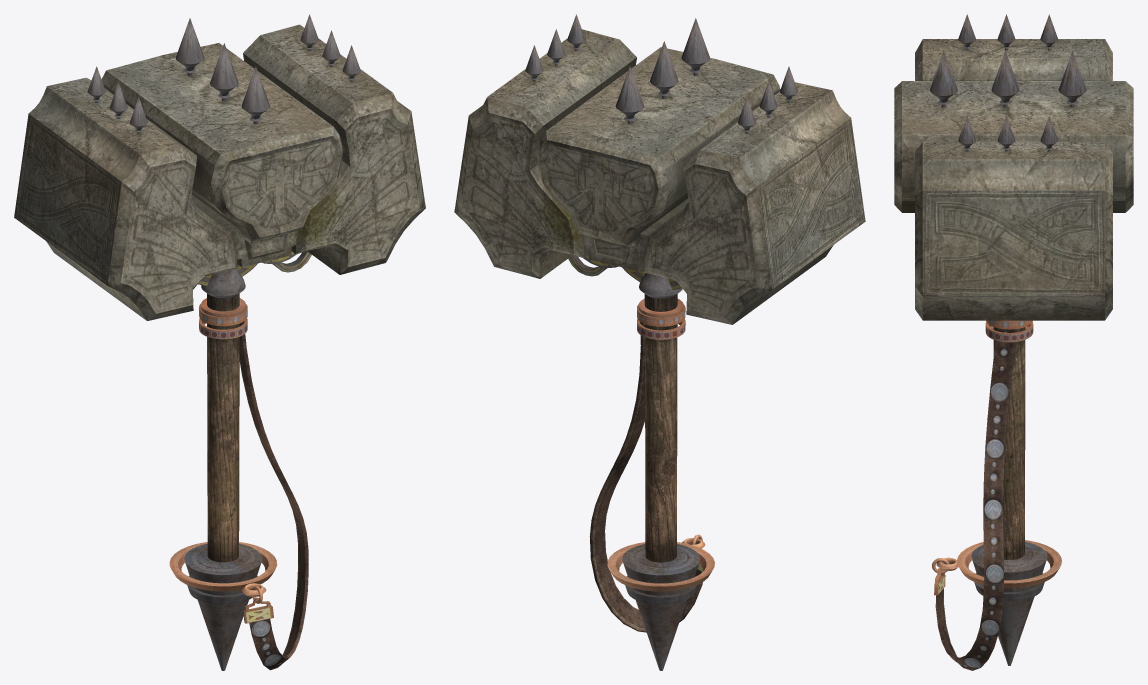
Rendered from norse-hammer.glb.
3 views of the same model, side by side, from view 1: azimuth 30°, elevation 25°; view 2: azimuth 150°, elevation 25°; view 3: azimuth 270°, elevation 25° (orthographic). The views are drawn at different scales.
Visible parts, largest first — view 1: Object_4; view 2: Object_4; view 3: Object_4.
Part boxes in pixels (x1,y1,x2,y2): Object_4: [14, 14, 425, 670]; Object_4: [454, 14, 865, 670]; Object_4: [894, 14, 1133, 670].
Size of the model in its own units: 3.58 by 6.76 by 2.39.
1 material, 1 textured.
